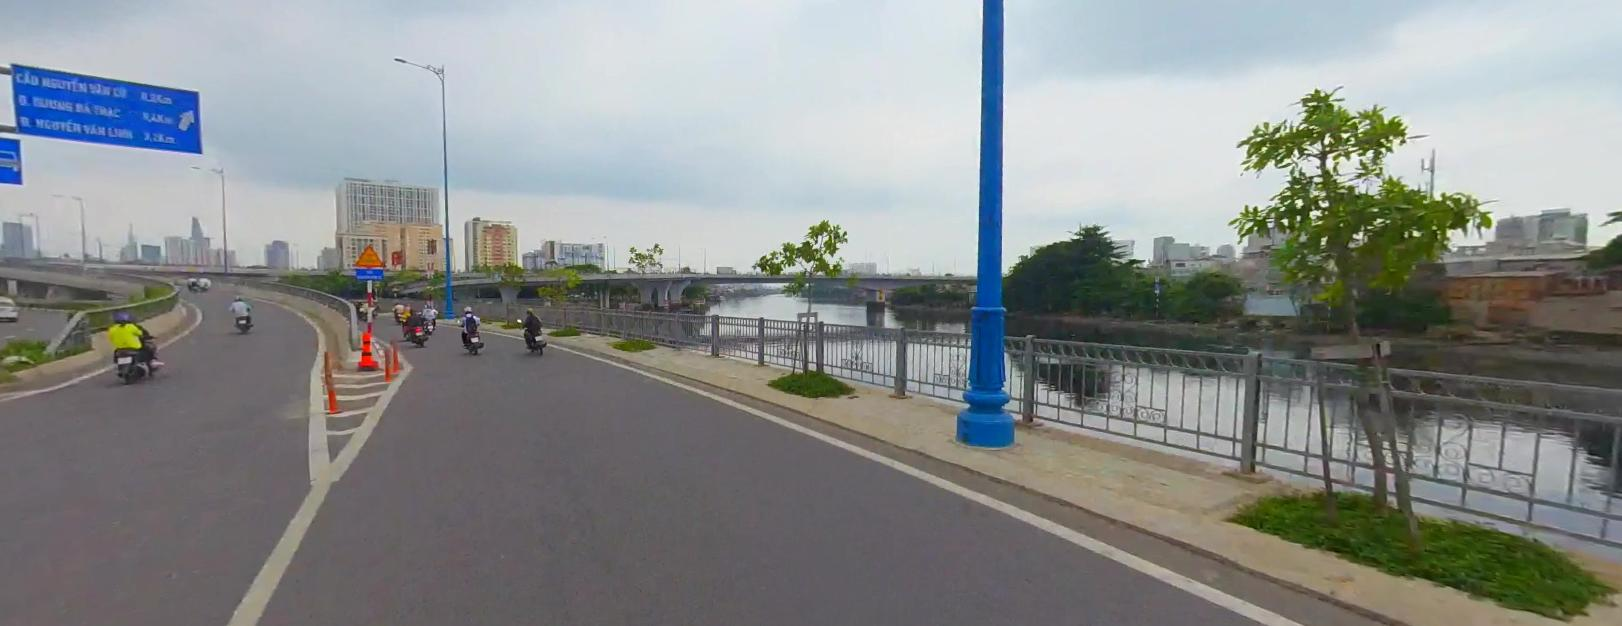Nguy hiem: (353, 243, 383, 264)
